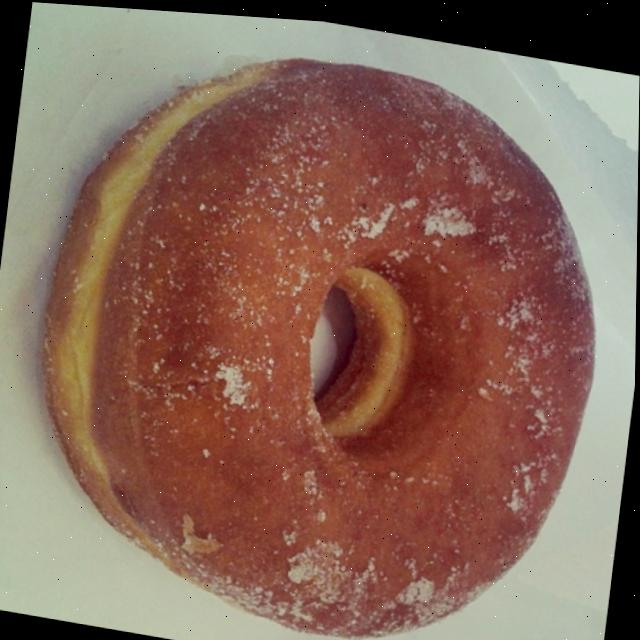炸货点心: (0, 3, 640, 640)
